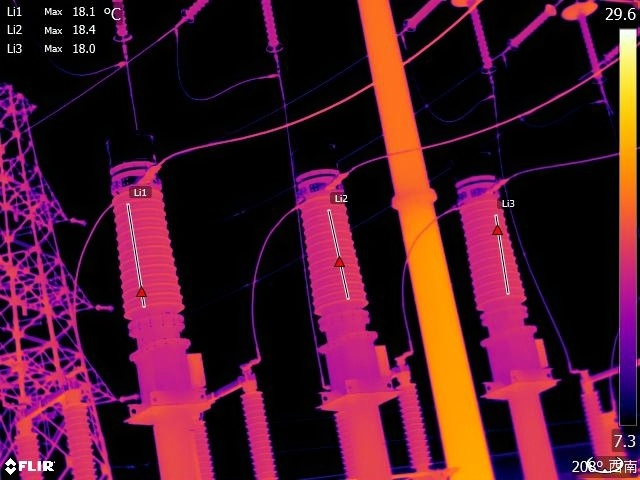clamp: (264, 61, 290, 84), (110, 52, 136, 73), (165, 16, 183, 44), (481, 87, 505, 107)
current transformer: (99, 119, 221, 419), (287, 135, 401, 406), (448, 147, 559, 395)
insulator: (506, 3, 556, 50), (465, 1, 495, 72), (579, 13, 607, 79), (401, 1, 441, 35), (257, 1, 284, 51), (105, 1, 135, 44), (173, 1, 212, 27)
post insulator: (392, 377, 438, 470), (236, 388, 282, 480), (62, 401, 103, 480), (582, 388, 616, 468), (194, 416, 228, 480), (11, 429, 51, 480)
switch: (7, 374, 83, 426), (581, 352, 640, 393), (207, 364, 267, 402)
